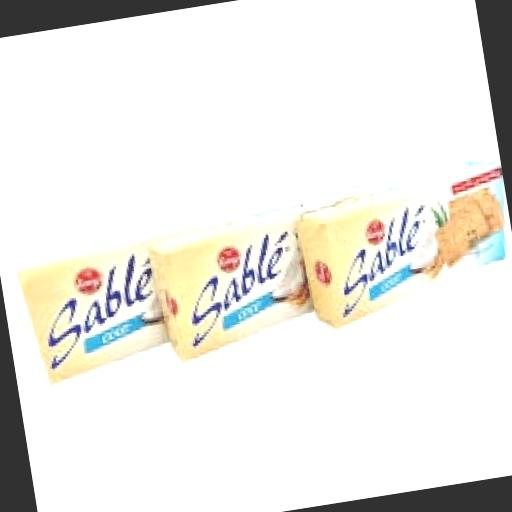sabl: (272, 150, 512, 412)
